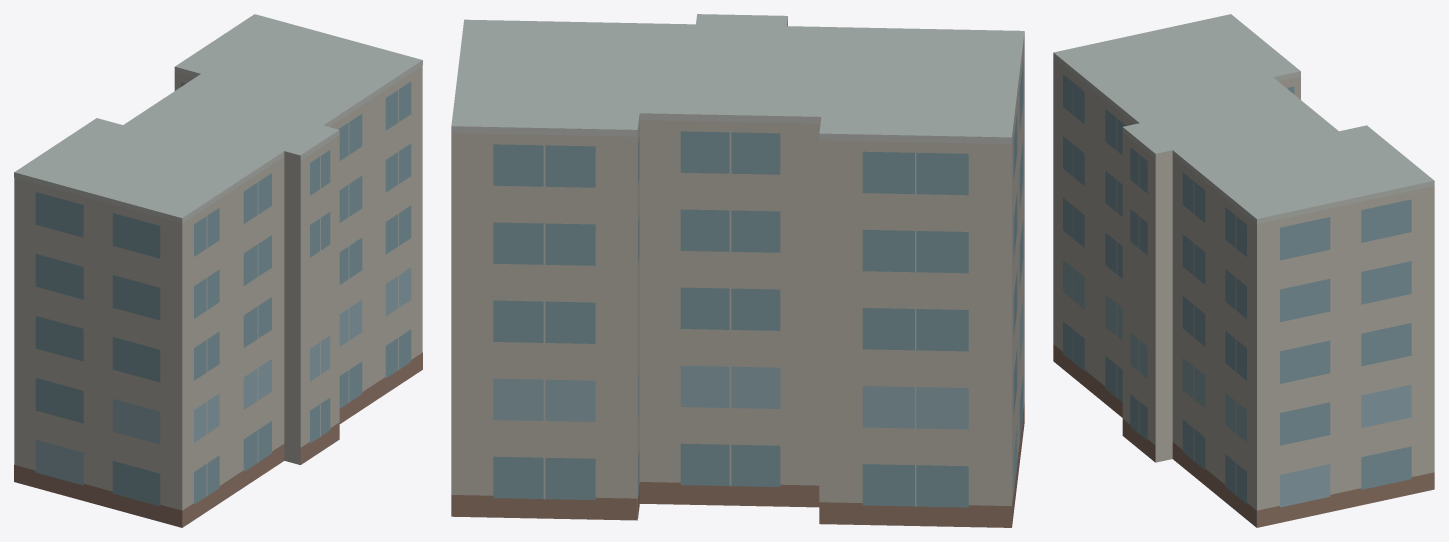
File: survey-upis-32959265.glb
3 views of the same model, side by side, from view 1: azimuth 30°, elevation 25°; view 2: azimuth 150°, elevation 25°; view 3: azimuth 270°, elevation 25° (orthographic). The views are drawn at different scales.
Parts seen in each view (by area): view 1: survey-upis-32959265.tmp; view 2: survey-upis-32959265.tmp; view 3: survey-upis-32959265.tmp.
Boxes of the visible parts, x1,y1,x2,y2 form: survey-upis-32959265.tmp: [14, 14, 422, 527]; survey-upis-32959265.tmp: [451, 14, 1024, 527]; survey-upis-32959265.tmp: [1053, 14, 1434, 527].
Size of the model in its own units: 20.23 by 14.2 by 15.89.
